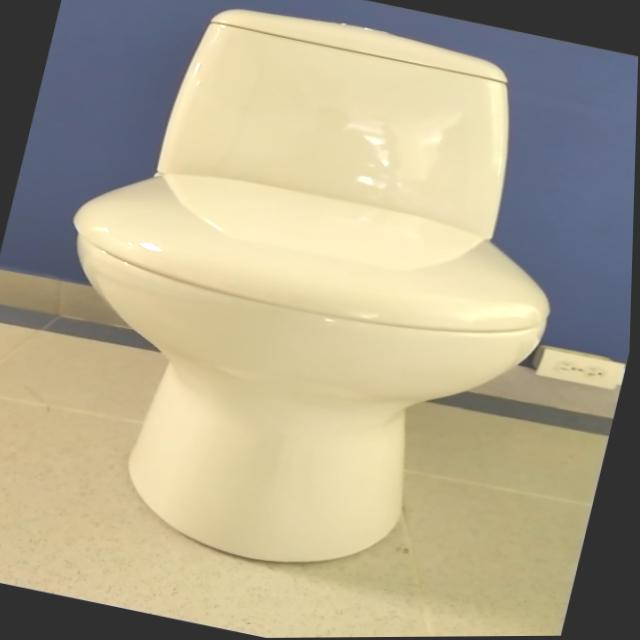toilet: (3, 0, 609, 609)
